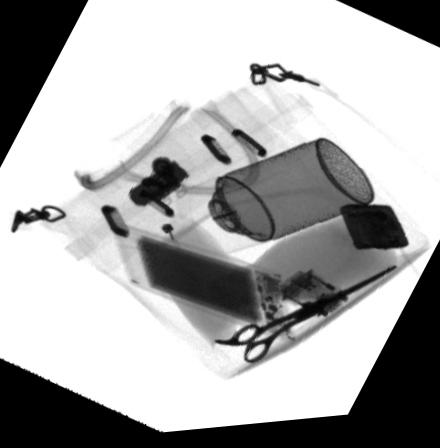Lighter: (339, 212, 407, 260)
Powerbank: (116, 223, 288, 341)
Scissors: (212, 272, 398, 370)
Sprayer: (175, 144, 377, 263)
